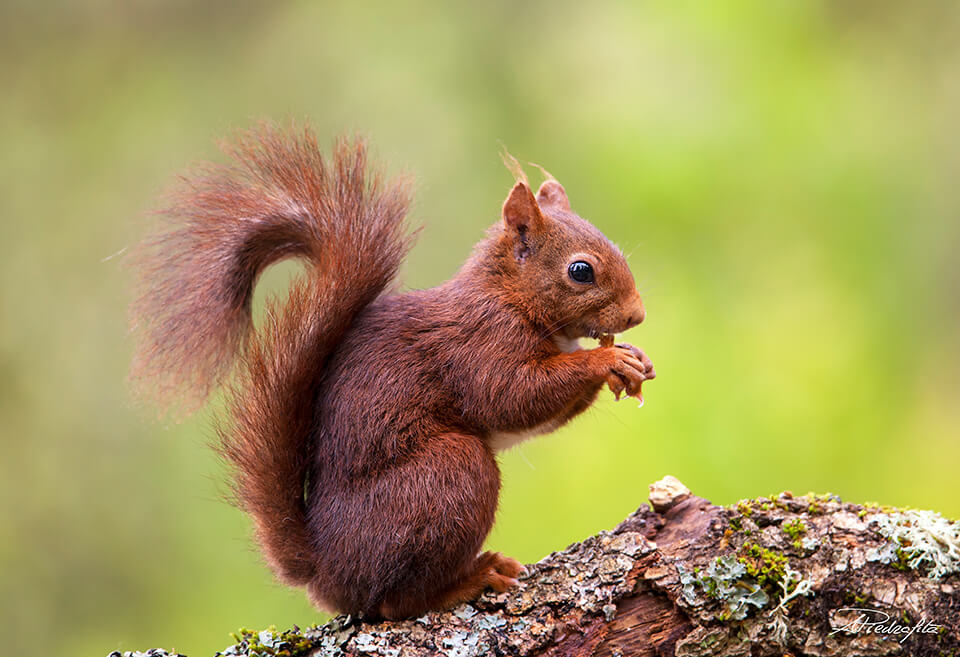Ardilla: (322, 155, 671, 563)
